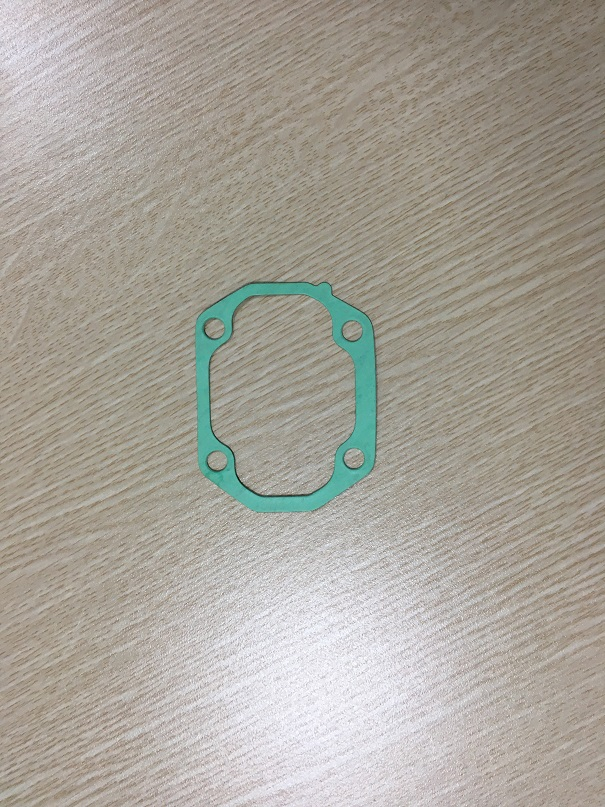type2: (182, 272, 390, 519)
